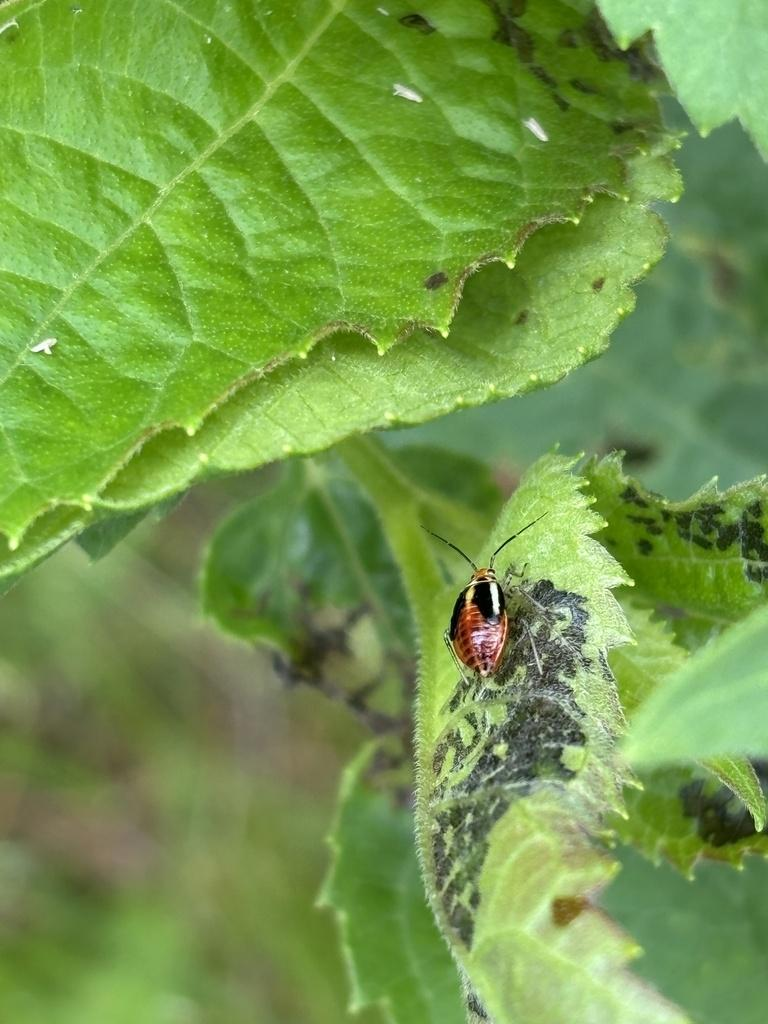plant_bugs: (380, 474, 576, 719)
